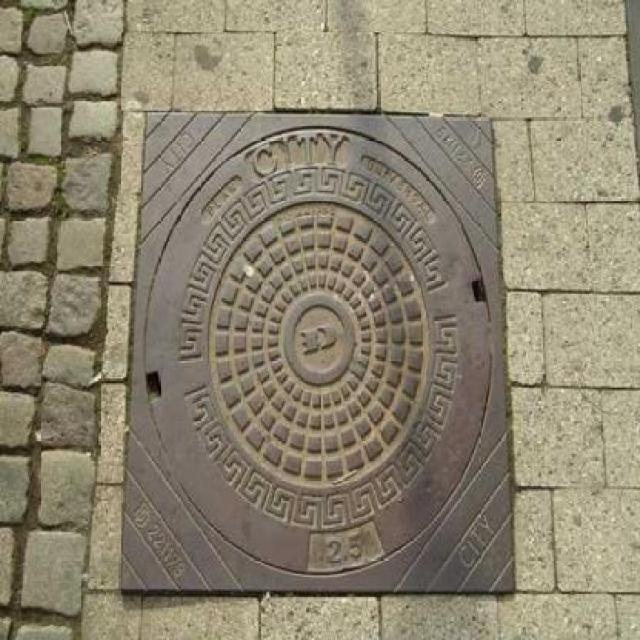Manhole: (100, 96, 522, 612)
